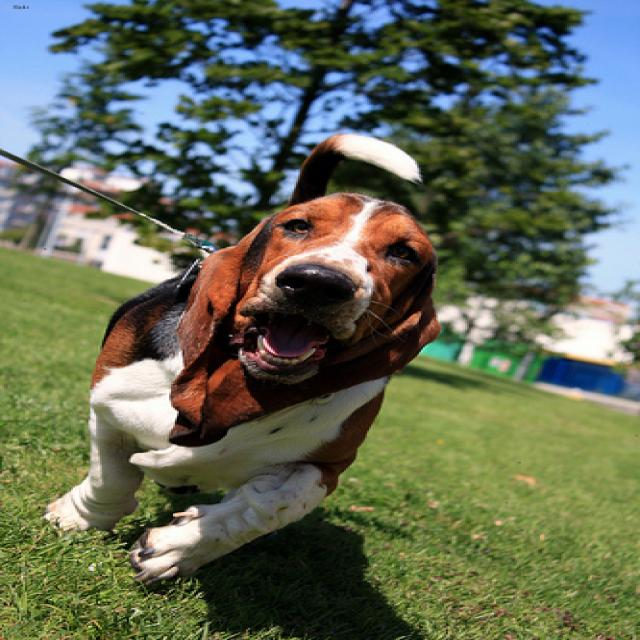dog-basset_hound: (29, 119, 461, 599)
